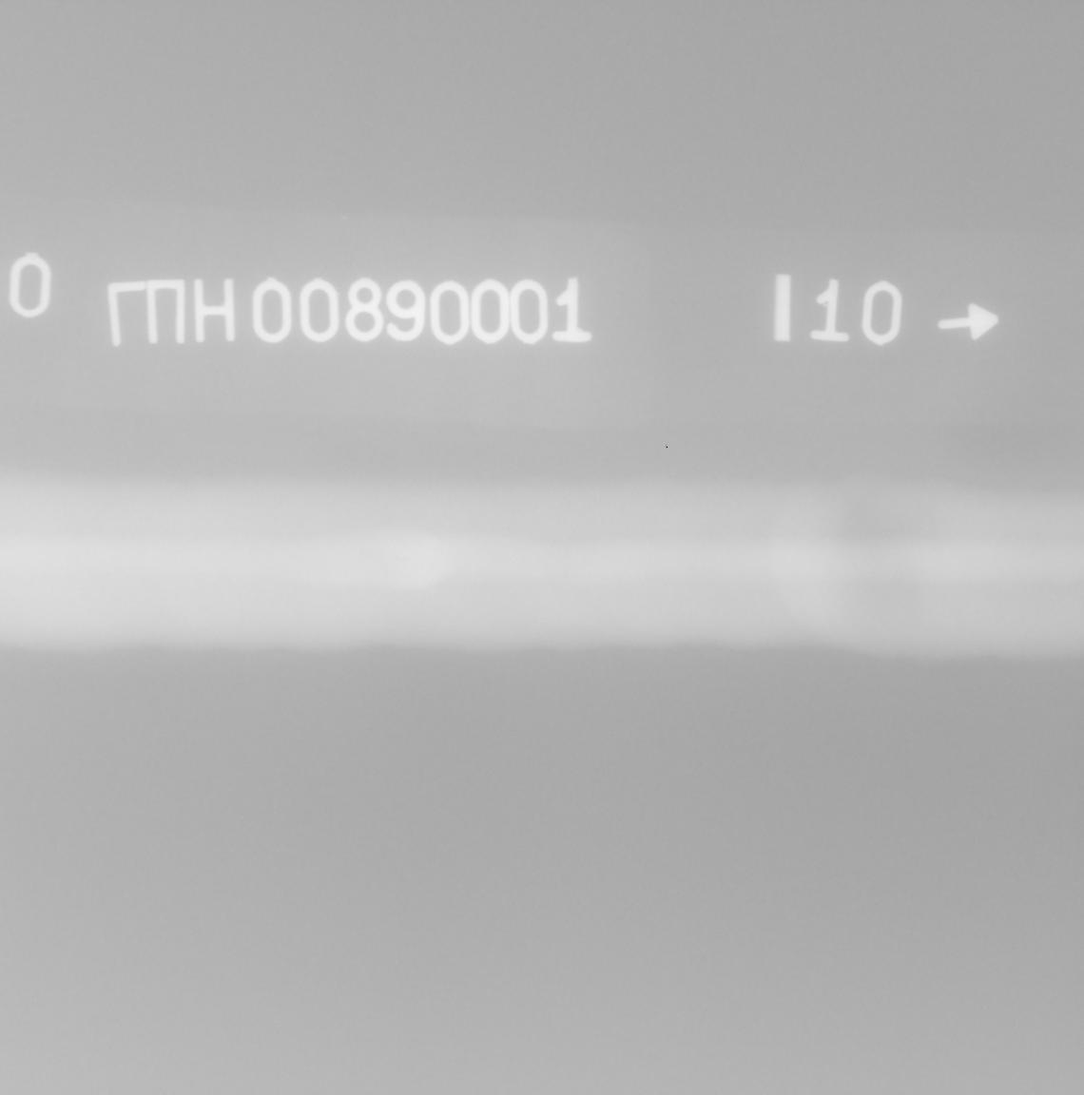Inclusion: (392, 556, 401, 560)
Pore/Porosity: (871, 586, 876, 591)
